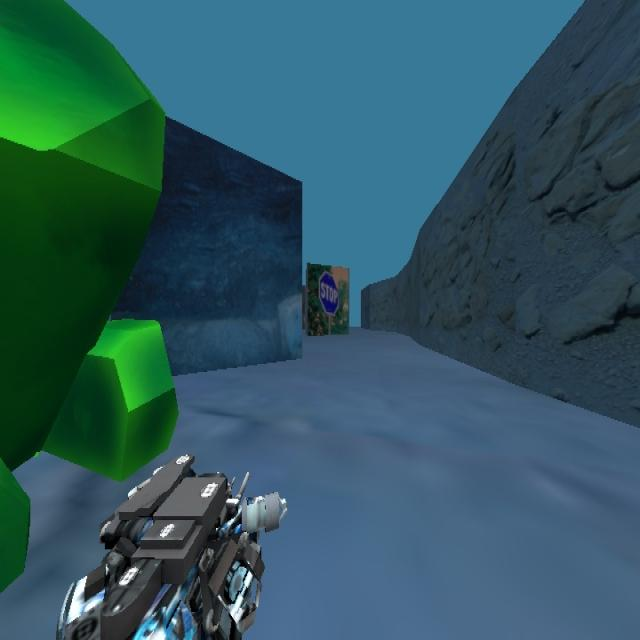Diamon: (0, 34, 198, 578)
Stop_Sign: (317, 269, 339, 316)
